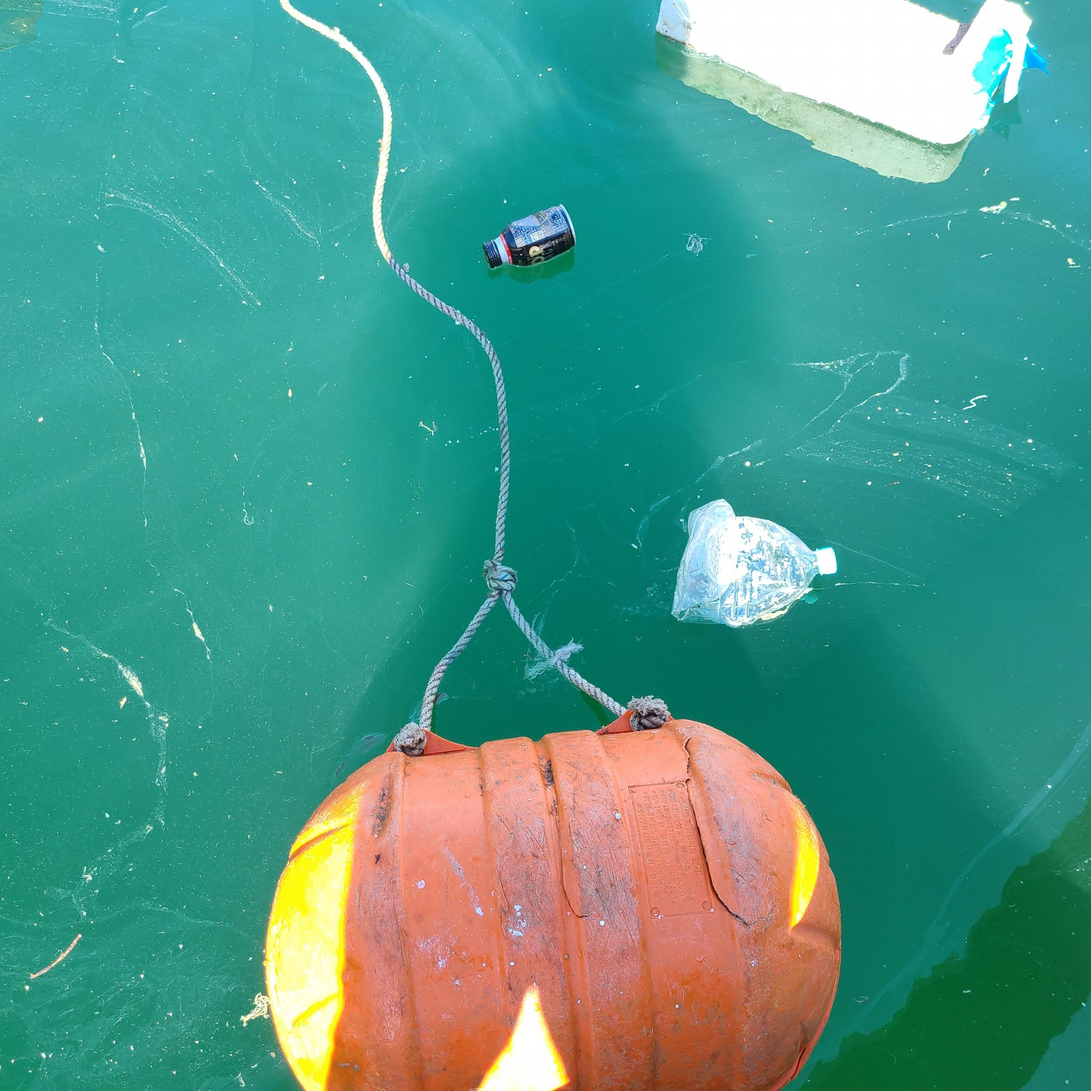sampah_terapung: (278, 1, 669, 756), (265, 710, 844, 1091), (657, 1, 1034, 145), (671, 500, 838, 629), (482, 205, 577, 270)
